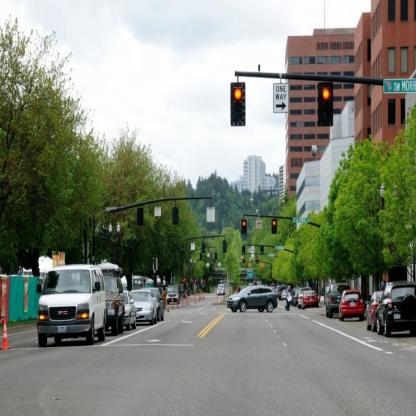Traffic Signal: (230, 79, 246, 124), (318, 82, 334, 127)
